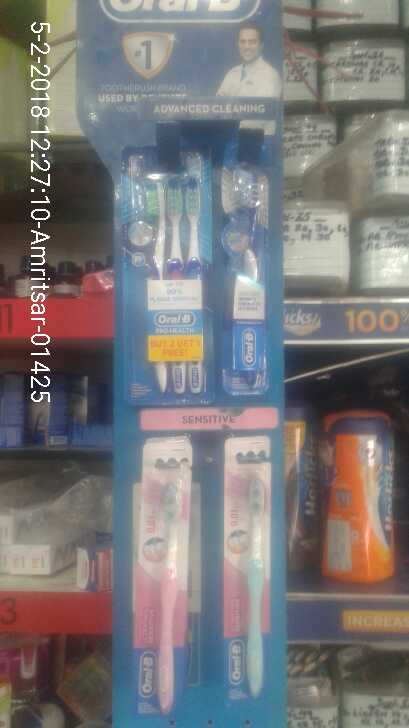oralb: (132, 162, 213, 393), (139, 449, 192, 714), (221, 162, 273, 395), (231, 465, 278, 703)
